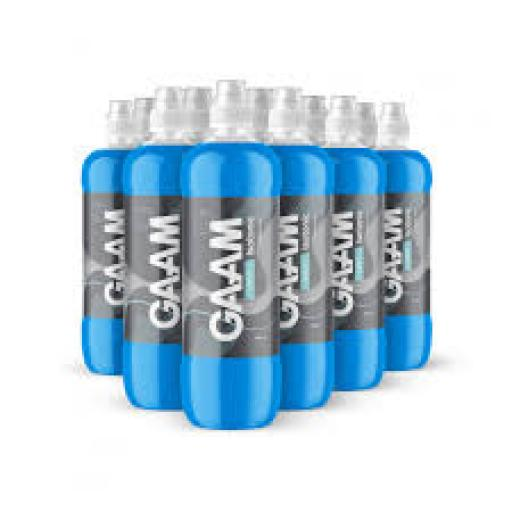blue-bottle: (182, 84, 280, 426)
